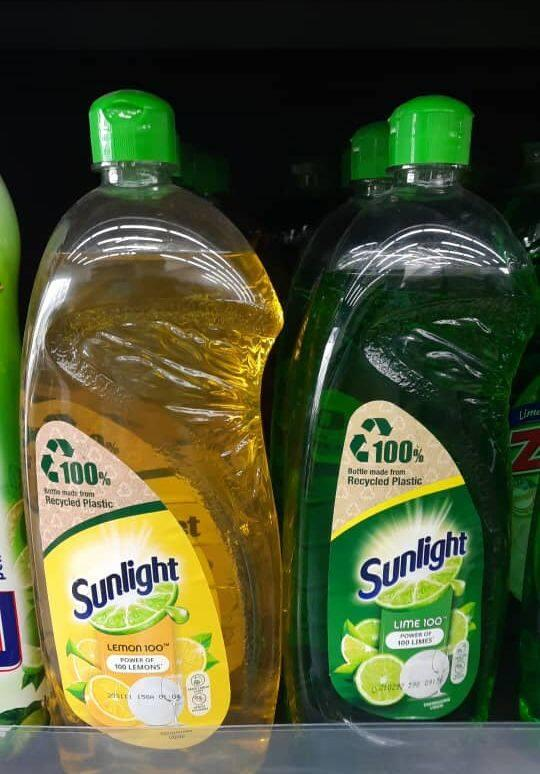plastic: (23, 90, 280, 747), (270, 96, 533, 720)
